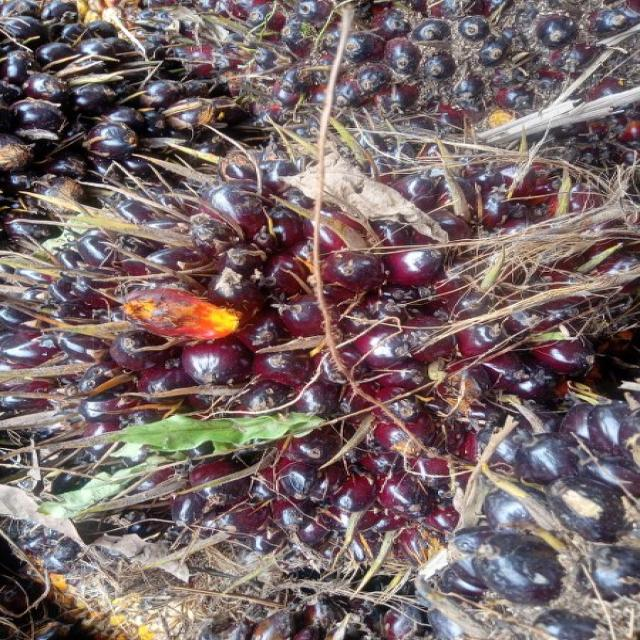fraksi 1: (0, 67, 636, 578)
